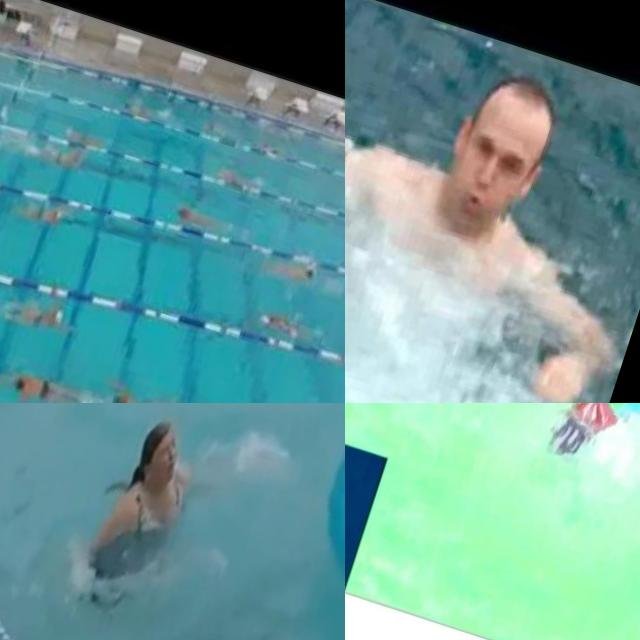drowning: (39, 403, 281, 640)
swimming: (345, 5, 640, 403), (448, 403, 640, 522), (0, 278, 80, 342), (13, 363, 99, 403), (16, 190, 76, 240), (258, 301, 320, 346), (171, 192, 221, 235), (270, 248, 320, 290), (116, 85, 164, 127), (61, 114, 110, 155), (42, 142, 92, 182), (112, 376, 186, 403), (209, 160, 257, 200)
